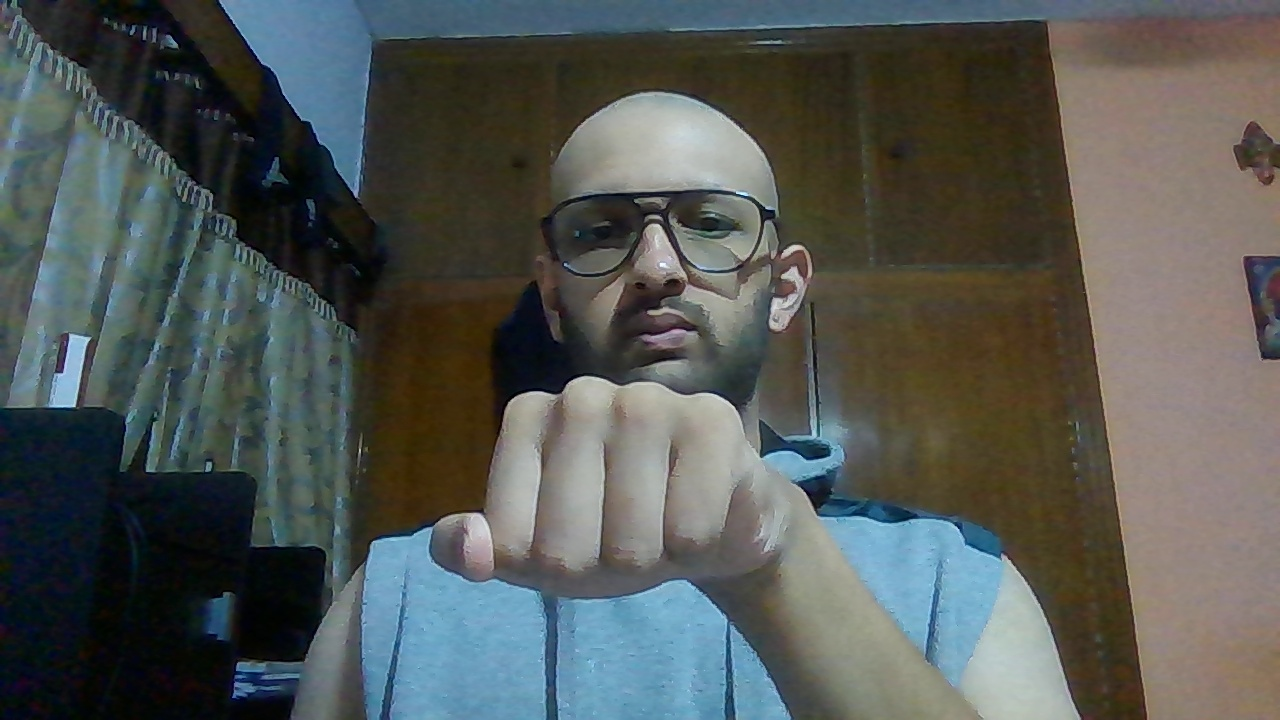Yes: (422, 368, 812, 604)
